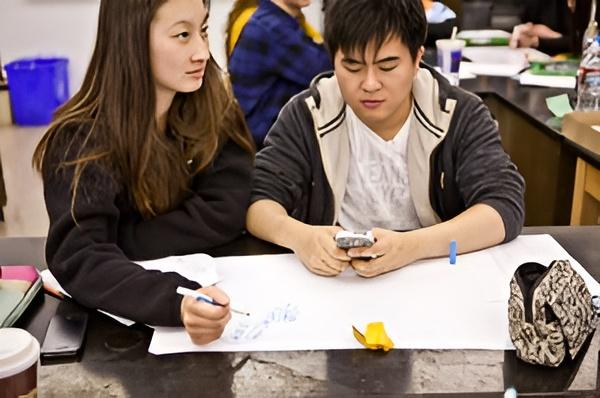phone: (243, 0, 525, 279)
